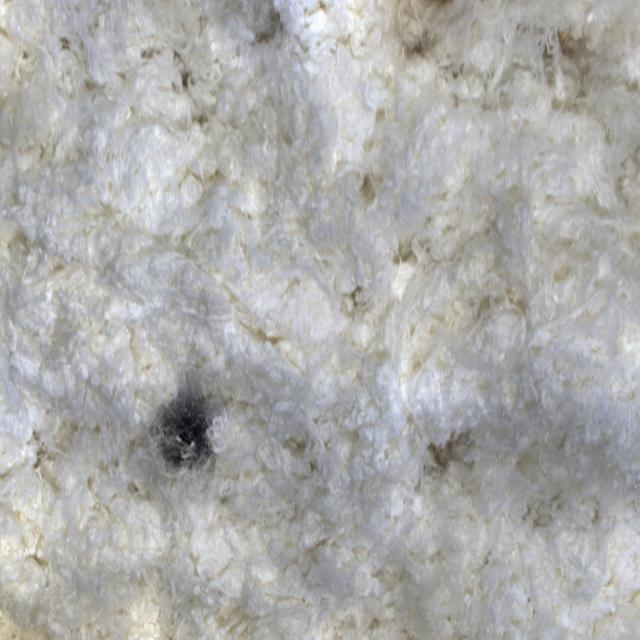dust: (127, 329, 259, 538)
